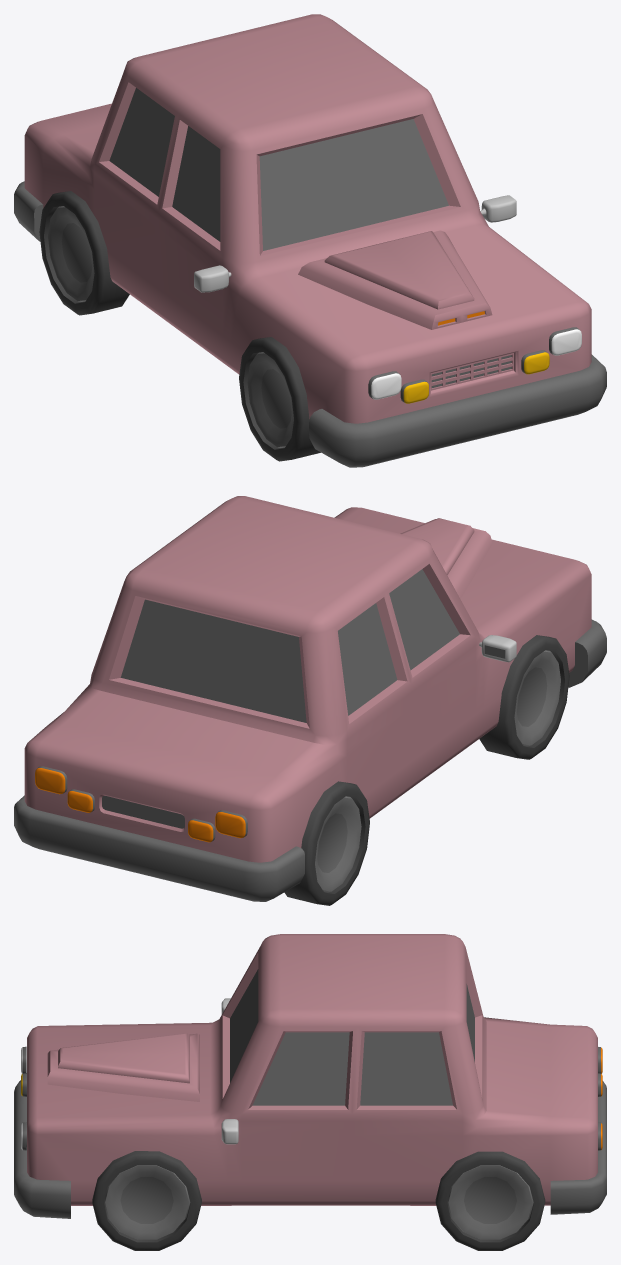
Rendered from Car_2B.fbx.
3 renders of one model, top to bottom at view 1: azimuth 30°, elevation 25°; view 2: azimuth 150°, elevation 25°; view 3: azimuth 270°, elevation 25°, orthographic. The views are drawn at different scales.
Parts seen in each view (by area): view 1: Car_2B; view 2: Car_2B; view 3: Car_2B.
Part boxes in pixels (box(x1,y1,x2,y2)): Car_2B: box(14, 14, 606, 467); Car_2B: box(14, 496, 606, 905); Car_2B: box(14, 934, 606, 1250).
Bounding box in the file's own units: 0.3141 × 0.2457 × 0.5921.
